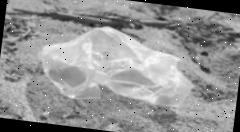plastic: (33, 18, 200, 116)
